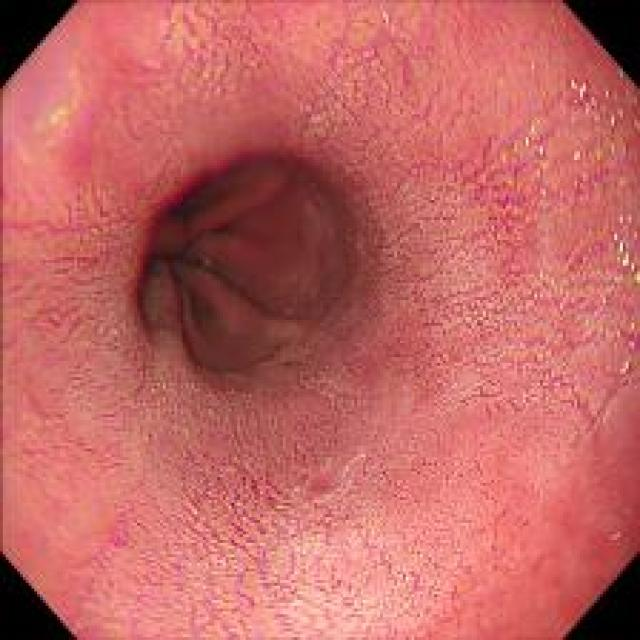color misalignment: (602, 210, 636, 375), (601, 65, 638, 136), (565, 72, 602, 126)
specularity: (379, 11, 392, 24)
